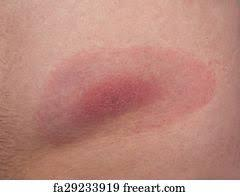Tick: (27, 27, 219, 143)
